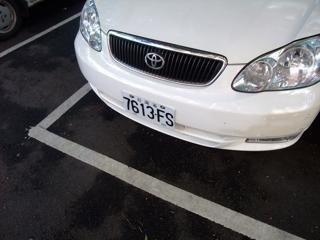plate: (118, 89, 178, 133)
